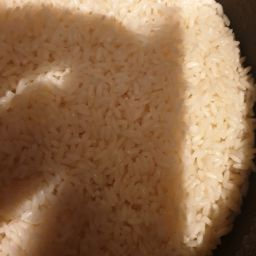Rice: (9, 3, 249, 256), (34, 35, 209, 234), (14, 84, 218, 179)
